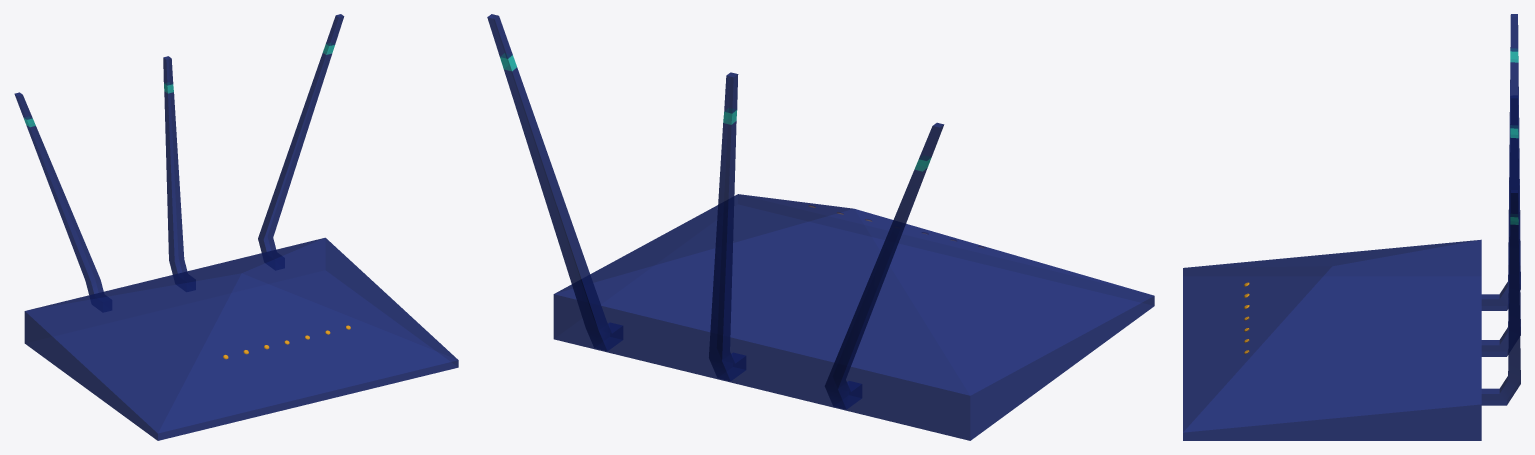
The model's file is luyouqi.FBX.
3 renders of one model, left to right at view 1: azimuth 30°, elevation 25°; view 2: azimuth 150°, elevation 25°; view 3: azimuth 270°, elevation 25°, orthographic. The views are drawn at different scales.
Visible parts, largest first — view 1: Box196; view 2: Box196; view 3: Box196, 对象211.
Boxes of the visible parts, <box> form: Box196: <box>14,14,458,440</box>; Box196: <box>487,14,1154,440</box>; Box196: <box>1183,14,1520,440</box>; 对象211: <box>1510,48,1518,224</box>.
Size of the model in its own units: 522 by 355 by 410.
